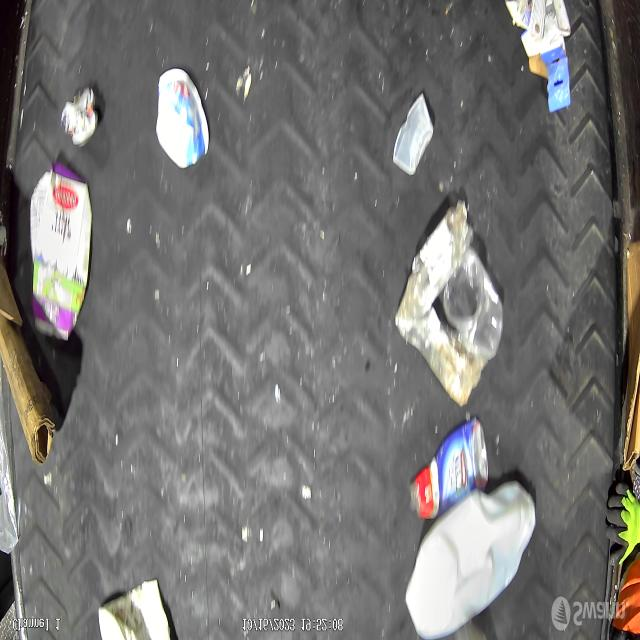milk_jug: (400, 474, 534, 640), (392, 90, 429, 178)
